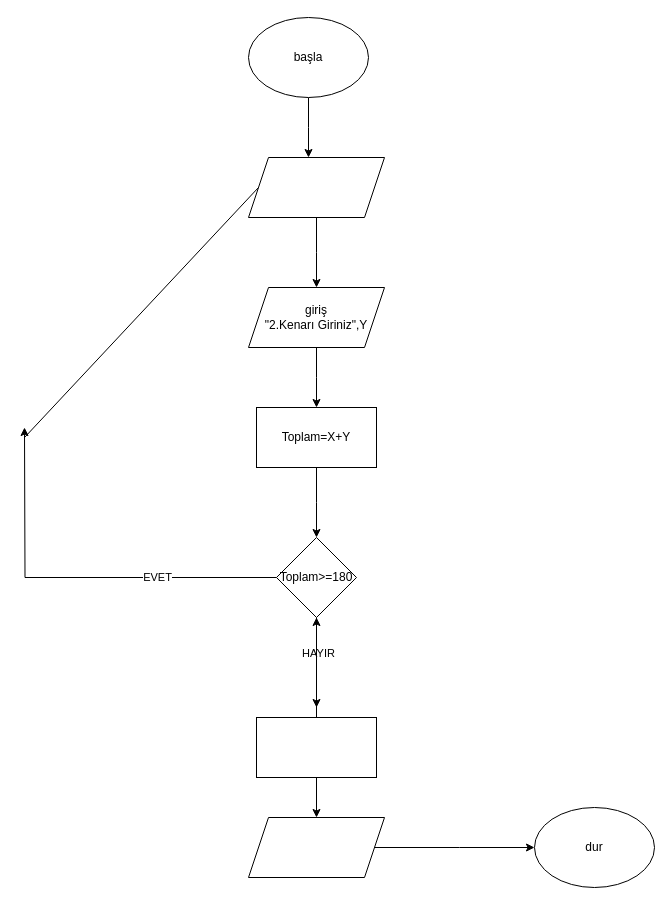
Image size: 672x905. Some labels were removed from this diagram. The centre of each missing label's shape, as x and y in pixels:
giriş "1.Kenarı Giriniz",X: point (316, 187)
Z=180-Toplam: point (316, 747)
çıkış "3.Kenarı Giriniz",Z: point (316, 847)
